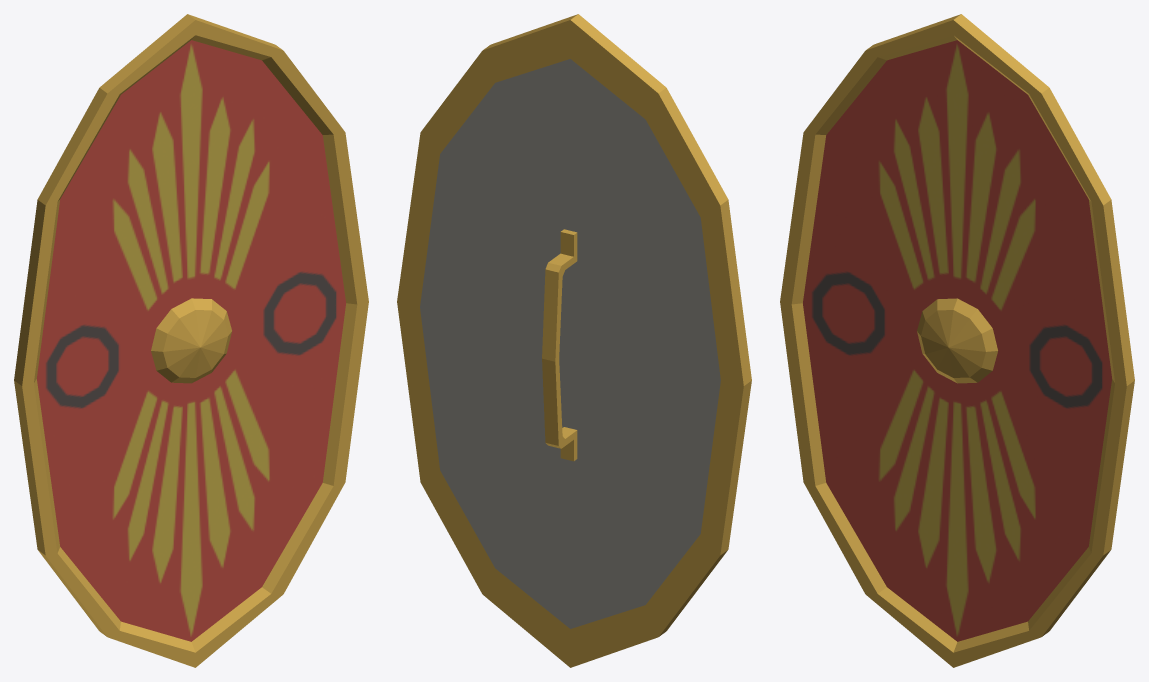
The model's file is SM_pwe_rome_shield_06b.fbx.
3 renders of one model, left to right at view 1: azimuth 30°, elevation 25°; view 2: azimuth 150°, elevation 25°; view 3: azimuth 330°, elevation 25°, orthographic.
Visible parts, largest first — view 1: SM_pwe_rome_shield_06b; view 2: SM_pwe_rome_shield_06b; view 3: SM_pwe_rome_shield_06b.
Part boxes in pixels (x1,y1,x2,y2): SM_pwe_rome_shield_06b: [14, 14, 368, 667]; SM_pwe_rome_shield_06b: [397, 14, 751, 667]; SM_pwe_rome_shield_06b: [780, 14, 1134, 667].
Size of the model in its own units: 58.09 by 104 by 10.22.
